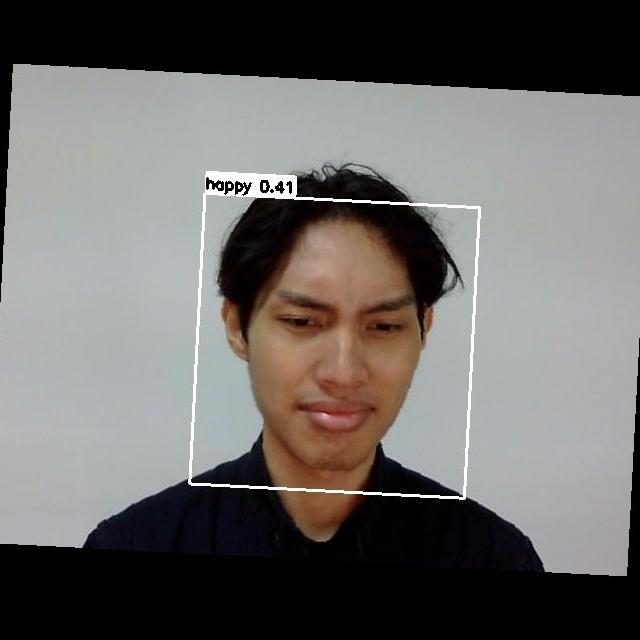Disgust: (239, 264, 434, 446)
